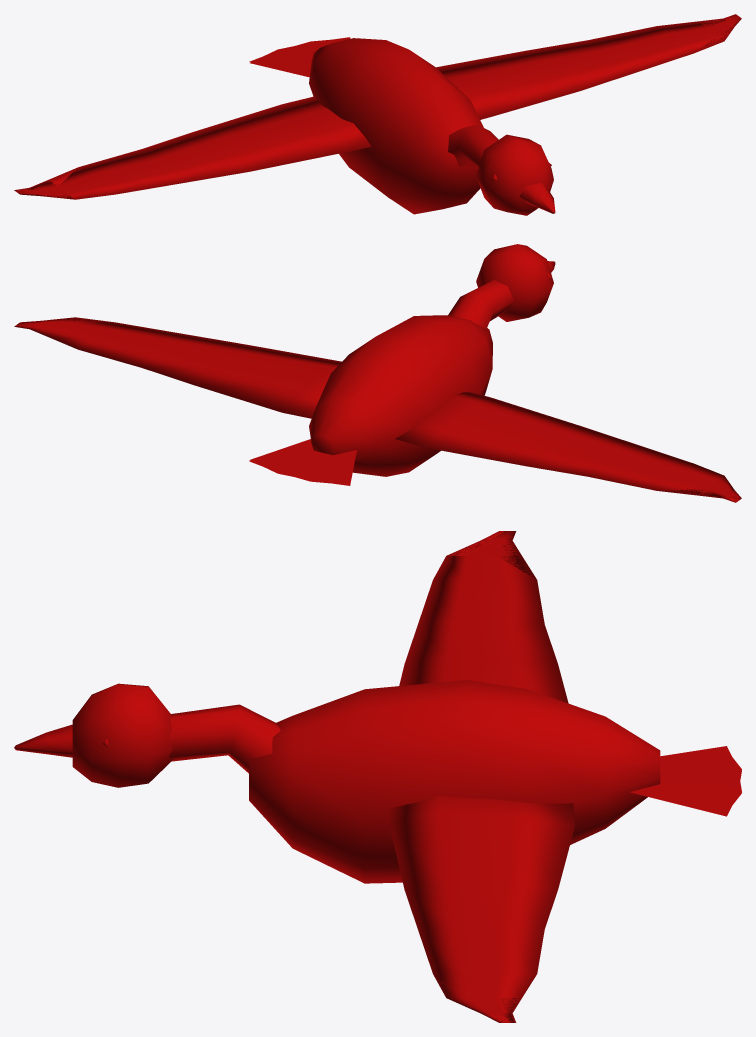
Rendered from swan.glb.
The picture shows the model from 3 angles, top to bottom: view 1: azimuth 30°, elevation 25°; view 2: azimuth 150°, elevation 25°; view 3: azimuth 270°, elevation 25°; orthographic projection. The views are drawn at different scales.
Visible parts, largest first — view 1: wing, body; view 2: wing, body; view 3: body, wing.
Part boxes in pixels (x1=…): wing: x1=14, y1=14, x2=741, y2=199; body: x1=249, y1=37, x2=555, y2=215; wing: x1=14, y1=317, x2=741, y2=502; body: x1=249, y1=244, x2=555, y2=485; body: x1=14, y1=680, x2=741, y2=883; wing: x1=387, y1=531, x2=574, y2=1022.
Bounding box in the file's own units: 2.4 × 0.4297 × 1.5.
